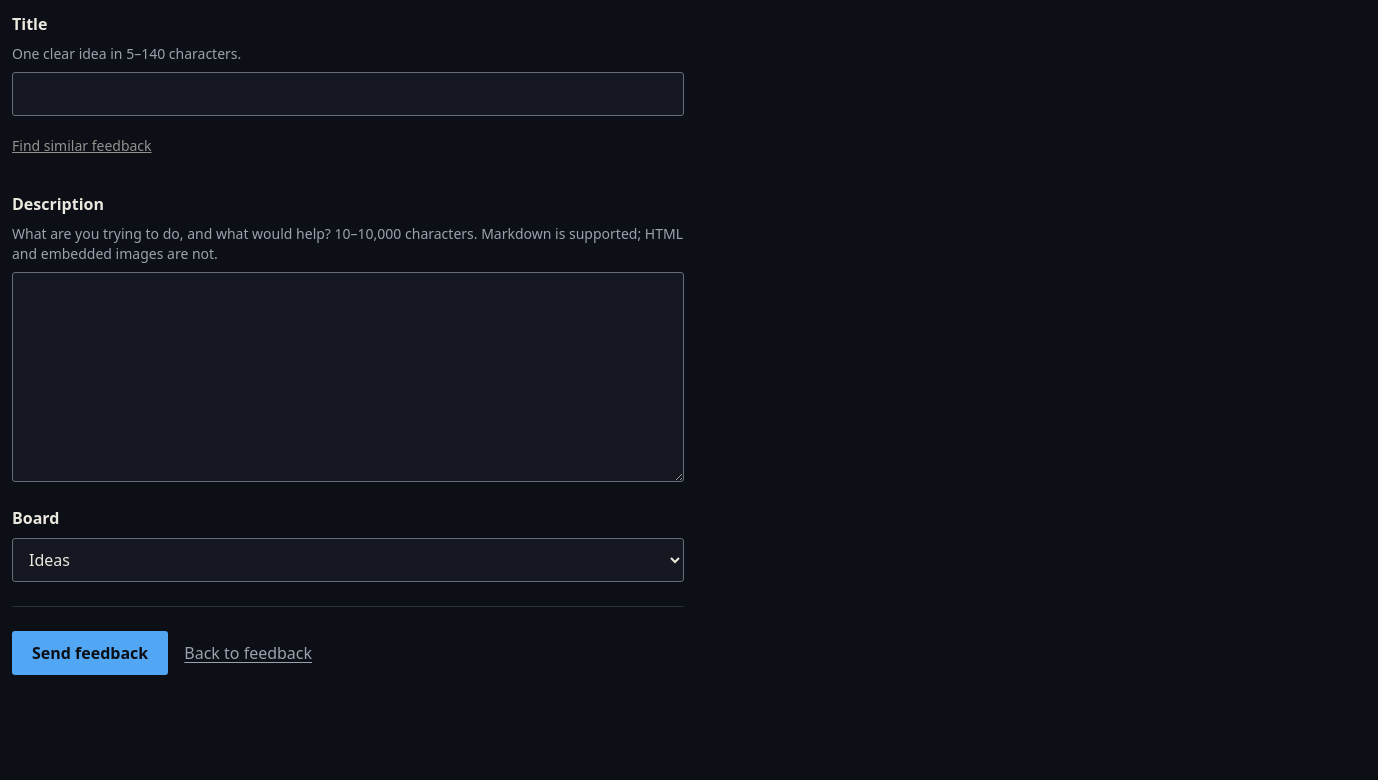
Test: supports keyboard submission and explains pending review
Type "Export reports" into the field labelled "Title".
click(348, 94); type("Export reports")  # box [12,72,684,116]
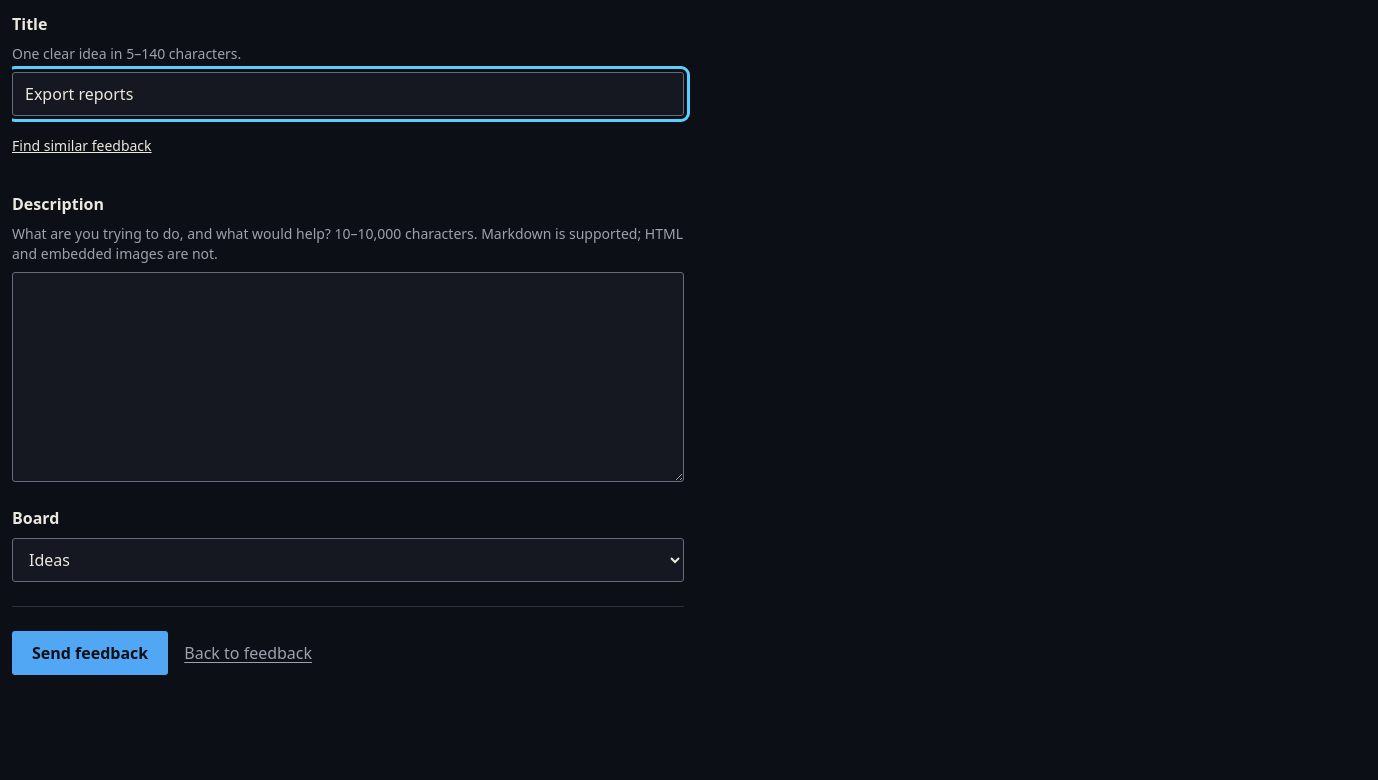
Type "An offline report would help our team." into the text box labelled "Description".
click(348, 377); type("An offline report would help our team.")  # box [12,272,684,482]
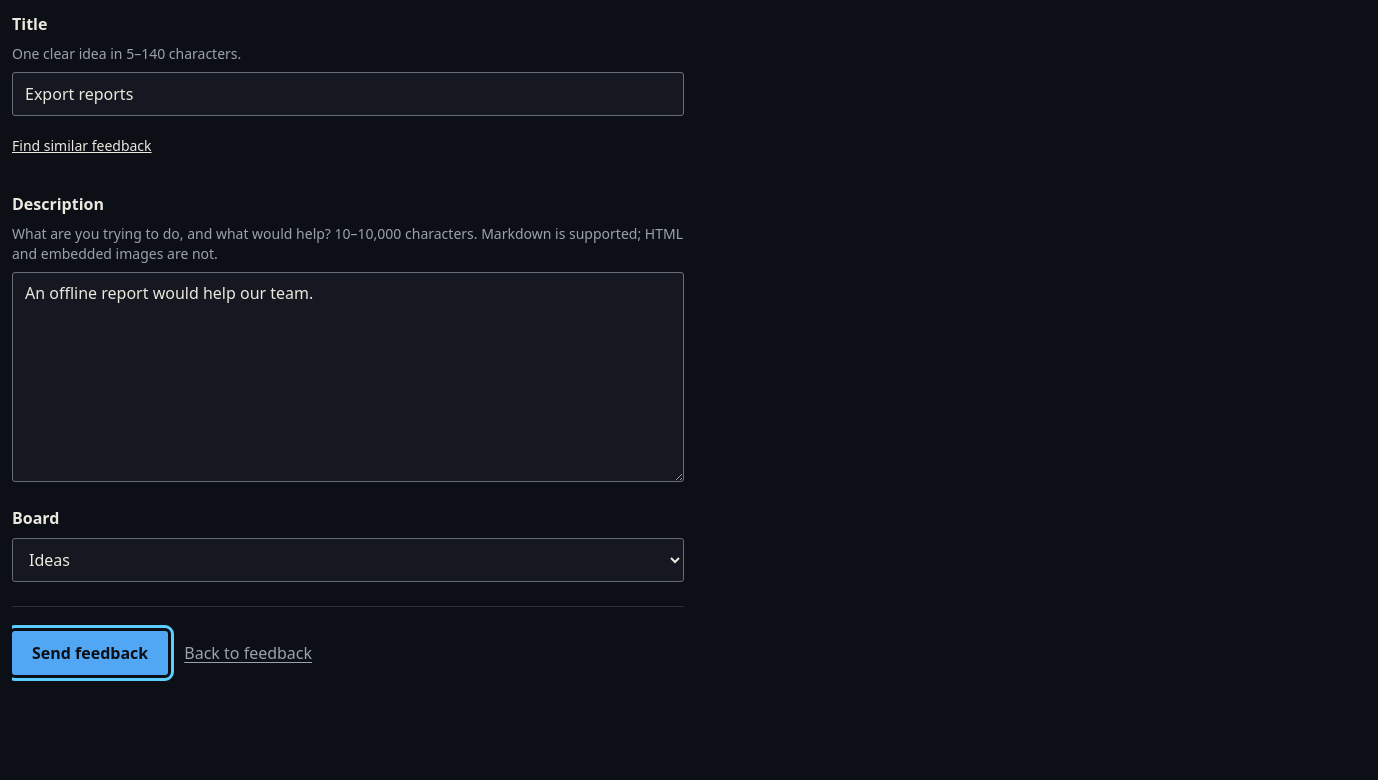
Press Enter
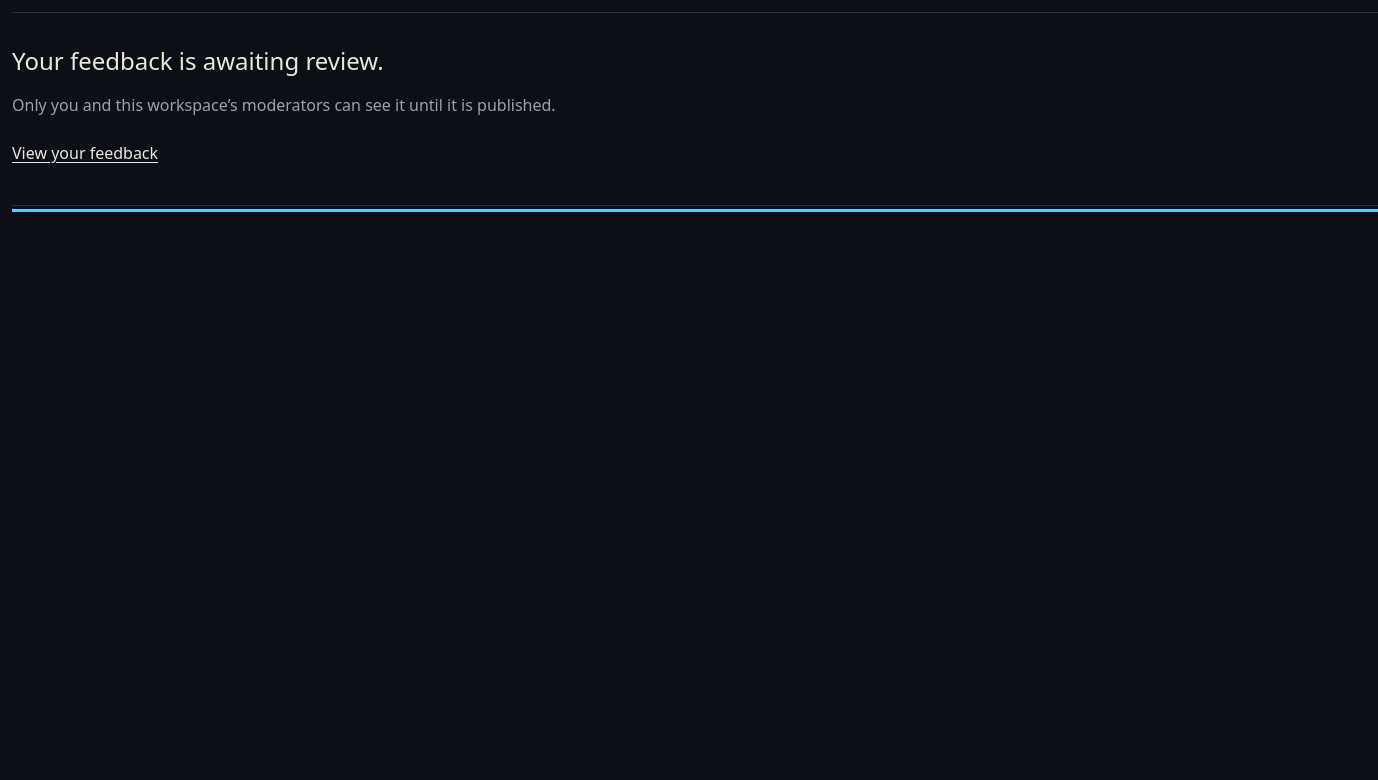
Expected: the heading "Your feedback is awaiting review." is shown, [12,44,384,77]
